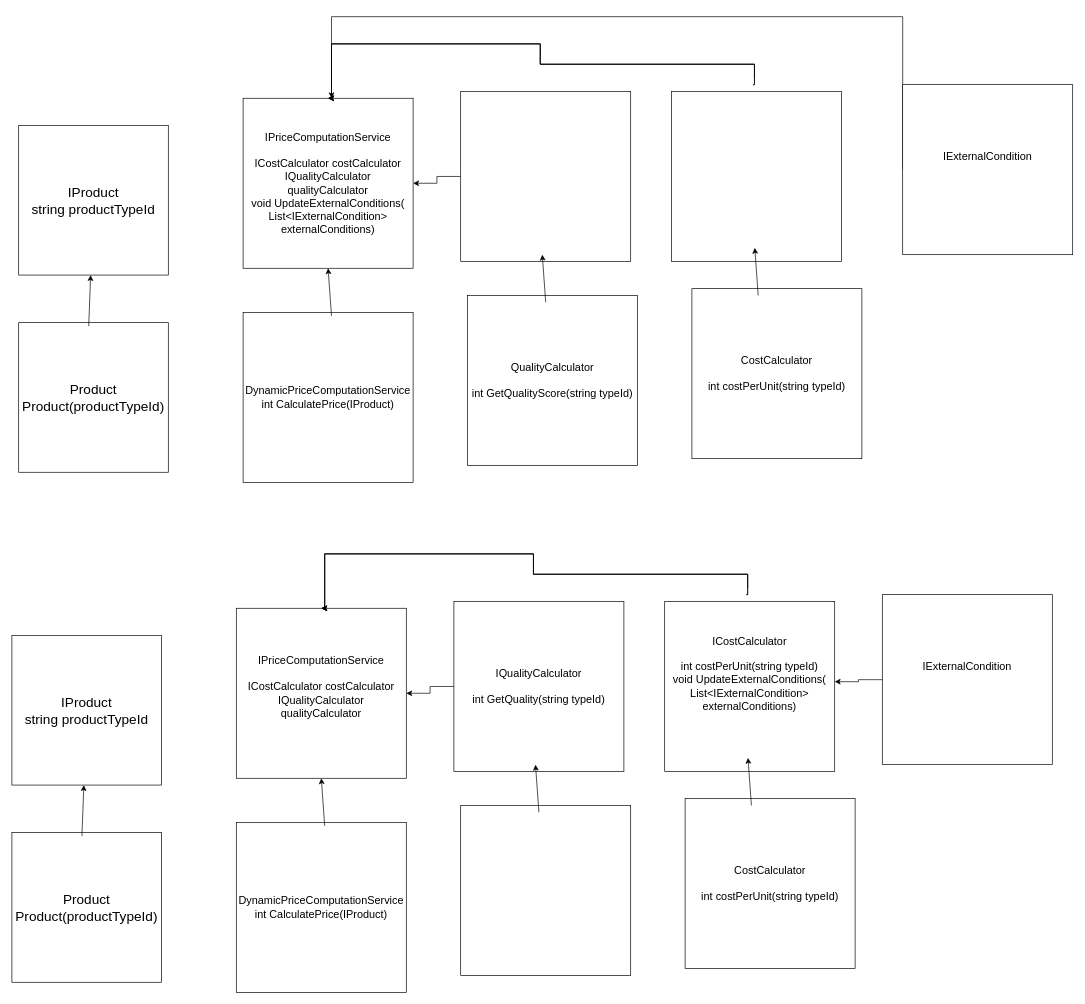
Image size: 1085x1004. Some labels were removed from this diagram. The centre of each missing label's shape, as x and y in pixels:
"ICostCalculator int costPerUnit(string typeId)" goes at (756,176).
"IQualityCalculator int GetQualityScore(string typeId)" goes at (545,176).
"QualityCalculator int GetQuality(string typeId)" goes at (545,890).
